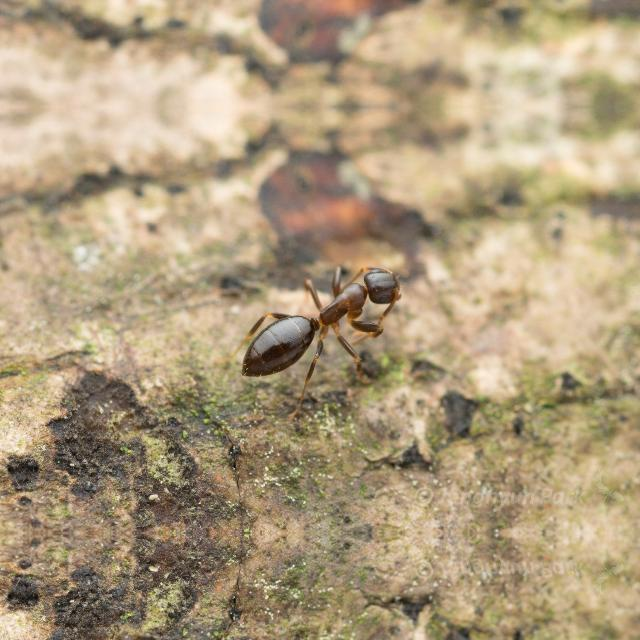Colobopsis: (213, 245, 432, 389)
